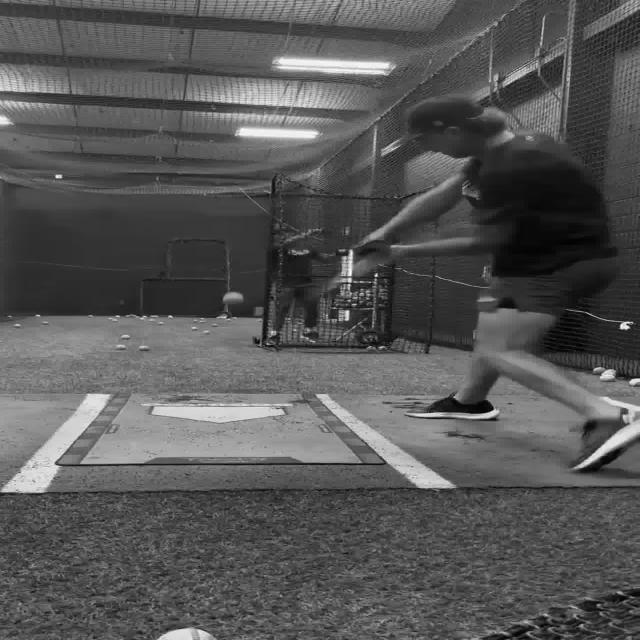base: (149, 407, 285, 422)
baseball: (157, 628, 217, 640), (222, 291, 244, 304), (591, 366, 605, 374), (628, 378, 640, 386), (598, 375, 614, 381), (138, 345, 150, 351), (114, 344, 126, 350), (120, 334, 130, 338), (13, 323, 21, 328), (190, 326, 198, 331), (40, 320, 49, 324), (202, 330, 210, 334), (34, 314, 40, 318), (211, 324, 217, 326)
shoe: (568, 406, 638, 472), (403, 391, 499, 420)
